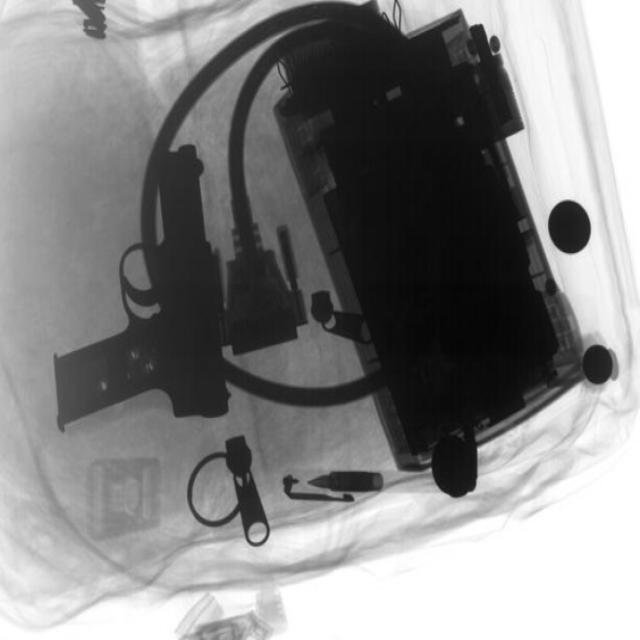GUN: (48, 136, 235, 435)
